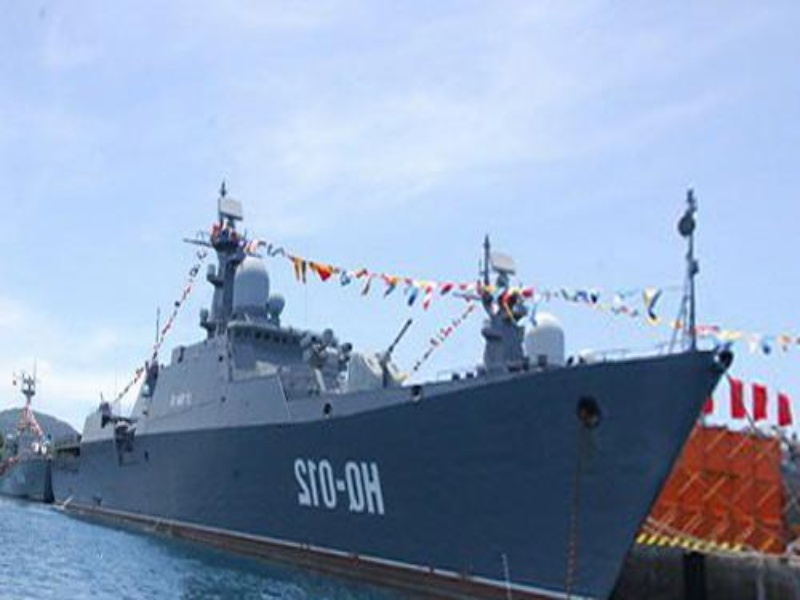cruise: (71, 216, 711, 592), (2, 395, 56, 502)
